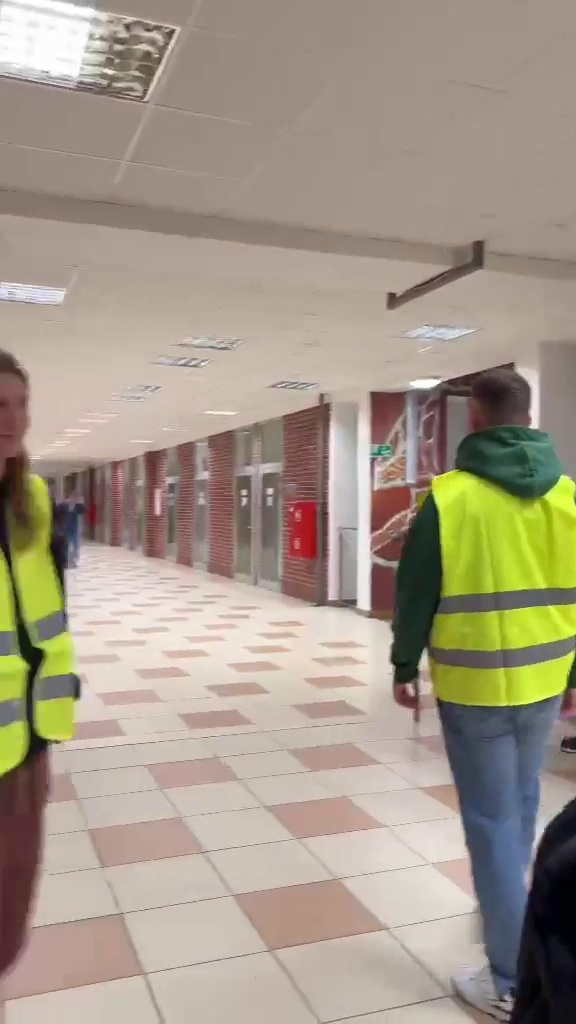vest: (390, 364, 572, 1012), (0, 344, 81, 978)
